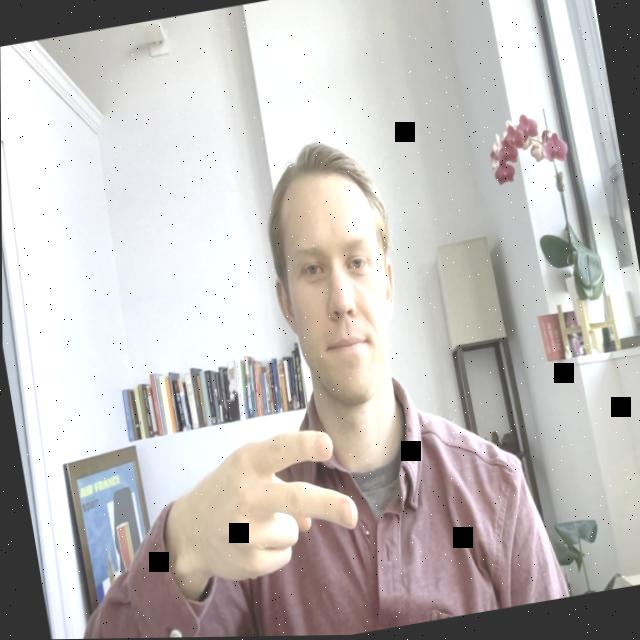Scissors: (169, 420, 369, 600)
